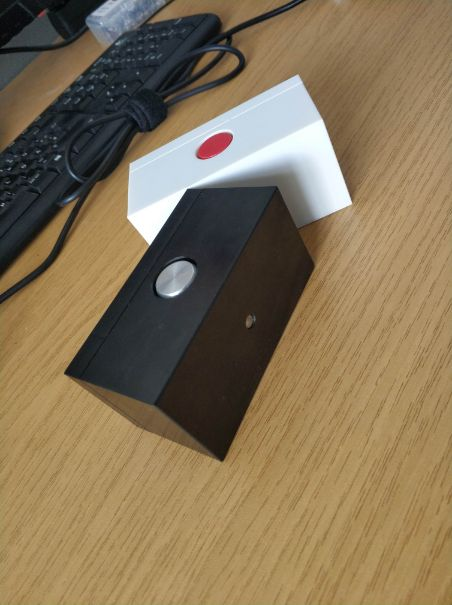black+black+silver: (60, 181, 318, 470)
white+white+red: (126, 72, 357, 251)
